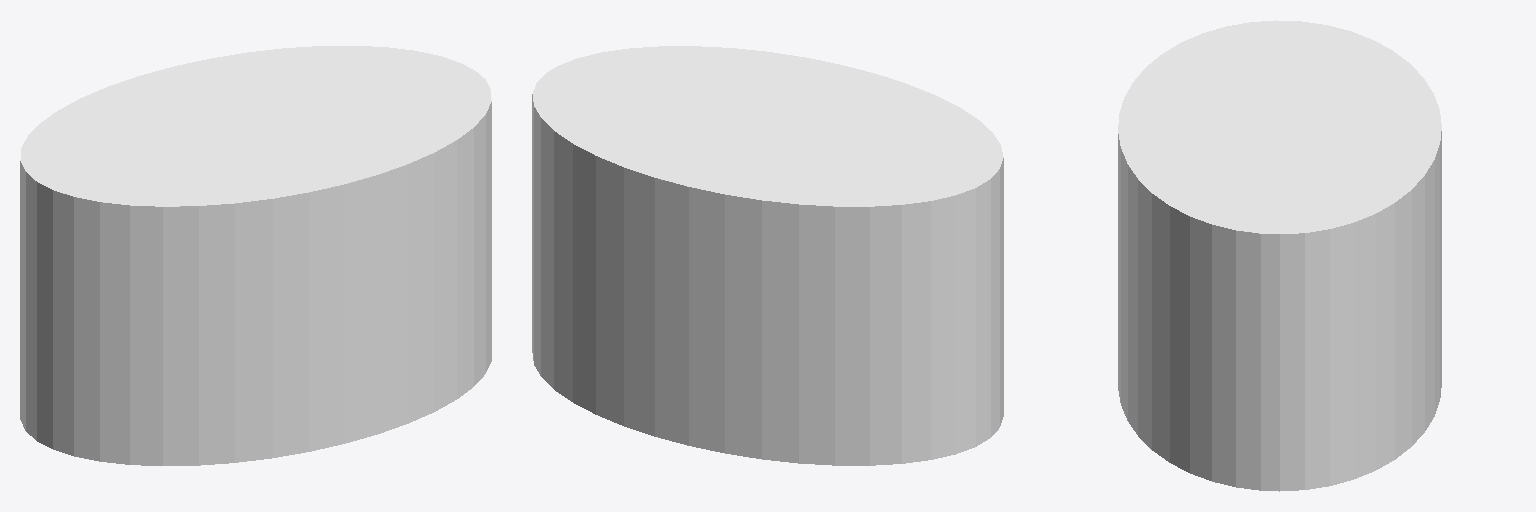
robot.urdf — oval.SLDPRT:
<?xml version="1.0" encoding="utf-8"?>
<!-- This URDF was automatically created by SolidWorks to URDF Exporter! Originally created by [author] ([email redacted]) 
     Commit Version: 1.5.1-0-g916b5db  Build Version: 1.5.7152.31018
     For more information, please see http://wiki.ros.org/sw_urdf_exporter -->
<robot
  name="oval.SLDPRT">
  <link
    name="oval">
    <inertial>
      <origin
        xyz="8.3158E-07 1.67800000000857E-07 0.014"
        rpy="0 0 0" />
      <mass
        value="0.29909" />
      <inertia
        ixx="3.8678E-05"
        ixy="-7.2738E-10"
        ixz="-4.66034537708482E-22"
        iyy="6.6304E-05"
        iyz="-4.27150000002474E-12"
        izz="6.59E-05" />
    </inertial>
    <visual>
      <origin
        xyz="0 0 0"
        rpy="1.5707963267949 0 0" />
      <geometry>
        <mesh
          filename="package://oval/meshes/oval.STL" />
      </geometry>
      <material
        name="">
        <color
          rgba="1 1 1 1" />
        <texture
          filename="package://oval/textures/" />
      </material>
    </visual>
    <collision>
      <origin
        xyz="0 0 0"
        rpy="1.5707963267949 0 0" />
      <geometry>
        <mesh
          filename="package://oval/meshes/oval.STL" />
      </geometry>
    </collision>
  </link>
</robot>

--- Facts derived from the render (not from the file) ---
Views: 3 orthographic renders of the robot side by side, from view 1: azimuth 30°, elevation 25°; view 2: azimuth 150°, elevation 25°; view 3: azimuth 270°, elevation 25°.
Robot: oval.SLDPRT — 1 links, 0 joints (none); root link oval; default pose: every joint at zero.
Links seen in each view (by area): view 1: oval; view 2: oval; view 3: oval.
Link boxes in pixels (<box>): oval: <box>20,46,491,465</box>; oval: <box>532,46,1003,465</box>; oval: <box>1118,20,1441,491</box>.
Size in the robot's own frame: 0.05 by 0.032 by 0.028 metres.
Meshes: 1 distinct files referenced, 1 mesh visuals loaded (1 binary STL).